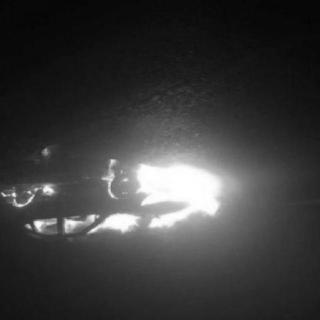Fire: (28, 160, 232, 248), (87, 157, 121, 207), (2, 184, 60, 212), (28, 146, 54, 164)
